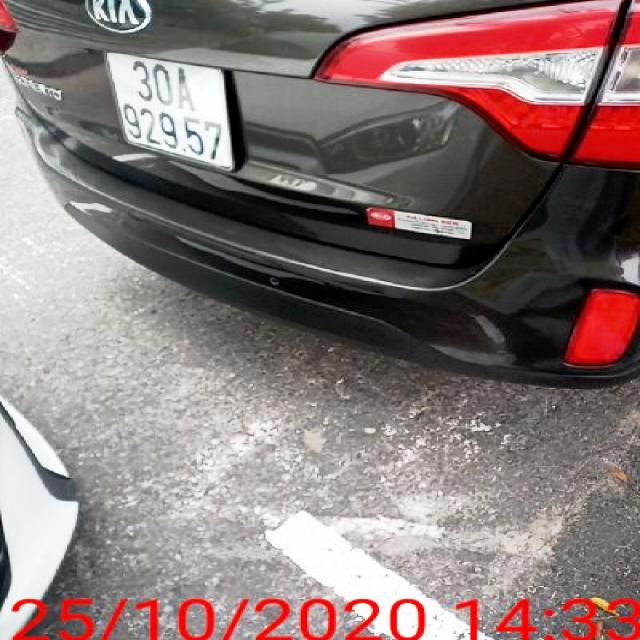license_plate: (108, 49, 233, 170)
